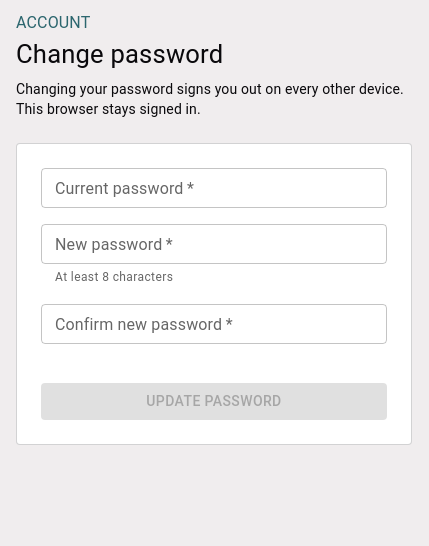
Scenario: ChangePasswordPage › submits and confirms success
Step 1. Type "old-password" into the password field labelled "Current password *" → (214, 188), box [41,168,387,208]
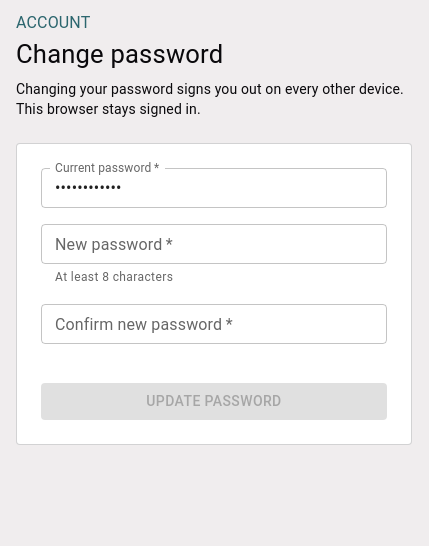
Step 2. Type "brand-new-pass" into the password field labelled "New password *" → (214, 244), box [41,224,387,264]
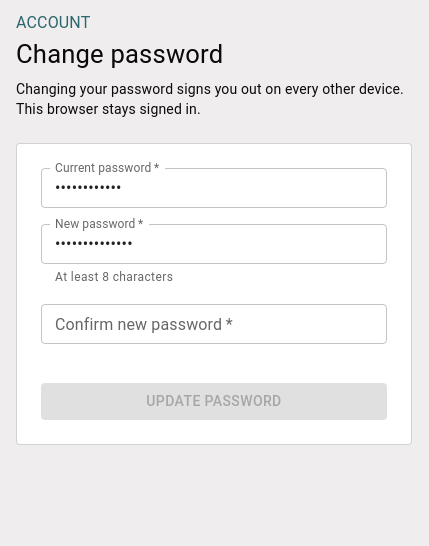
Step 3. Type "brand-new-pass" into the password field labelled "Confirm new password *" → (214, 324), box [41,304,387,344]
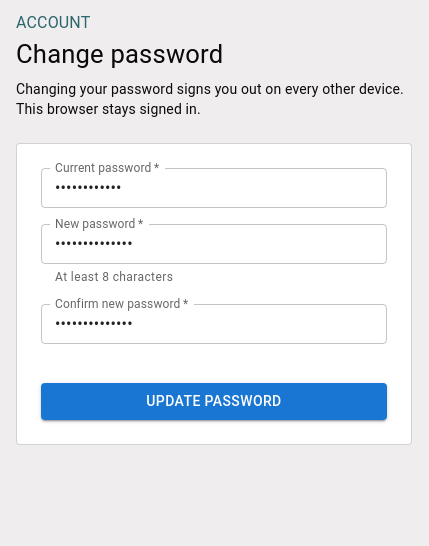
Step 4. Click the button "Update password" → (214, 402), box [41,383,387,420]
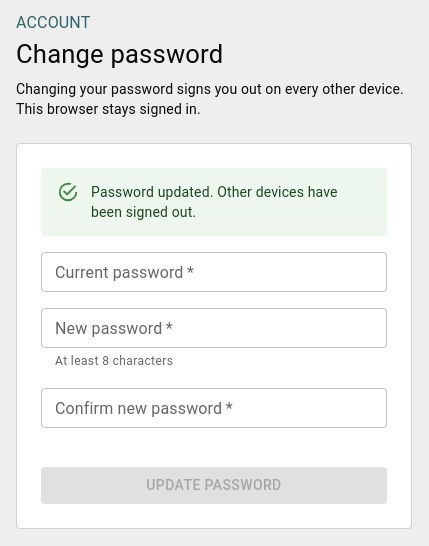
expect the text "Password updated. Other devices have been signed out." is shown: met, box [91,174,371,230]
expect the password field labelled "Current password *" is empty: met, box [41,252,387,292]
